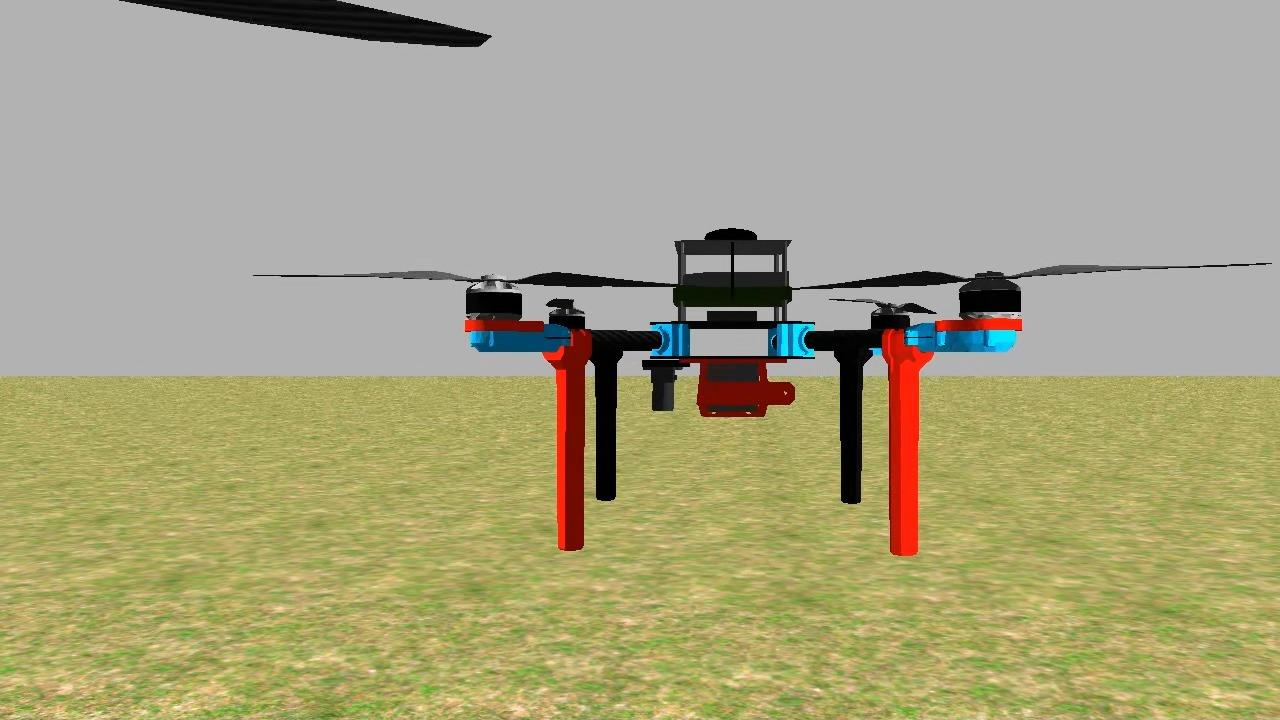UAV: (449, 215, 1043, 585)
